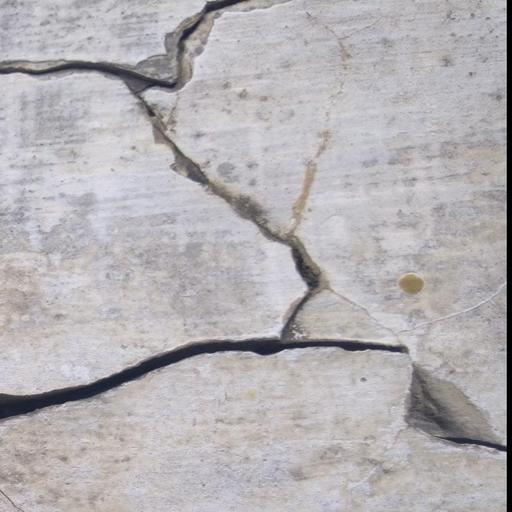major_crack: (2, 0, 504, 464)
